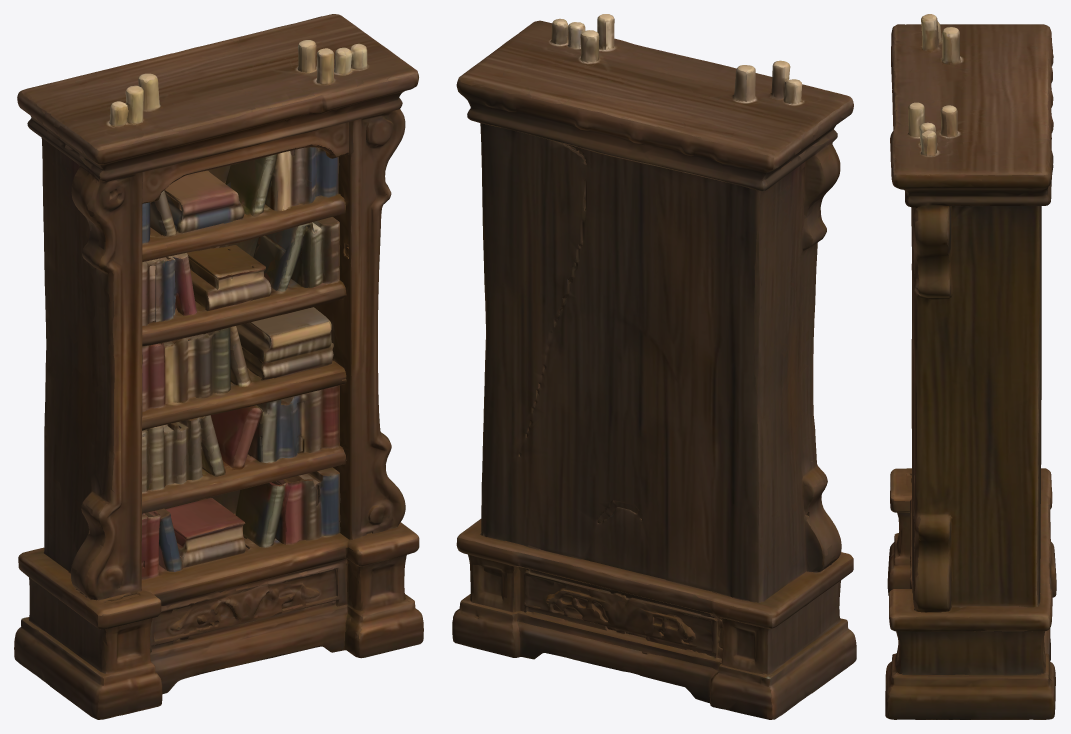
Rendered from bookshelf.glb.
3 renders of one model, left to right at view 1: azimuth 30°, elevation 25°; view 2: azimuth 150°, elevation 25°; view 3: azimuth 270°, elevation 25°, orthographic. The views are drawn at different scales.
Parts seen in each view (by area): view 1: geometry_0; view 2: geometry_0; view 3: geometry_0.
Part boxes in pixels (x1=…): geometry_0: x1=14, y1=14, x2=423, y2=719; geometry_0: x1=452, y1=14, x2=856, y2=719; geometry_0: x1=885, y1=14, x2=1056, y2=719.
Bounding box in the file's own units: 1.25 × 2.2 × 0.5912.
1 material, 1 textured.
